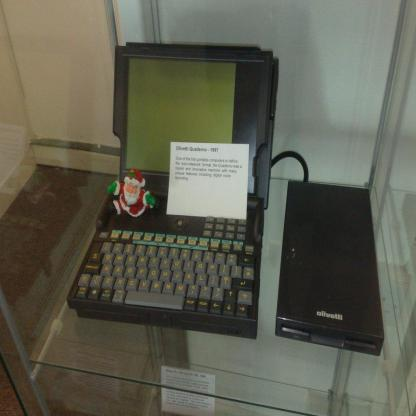board: (64, 51, 286, 374)
